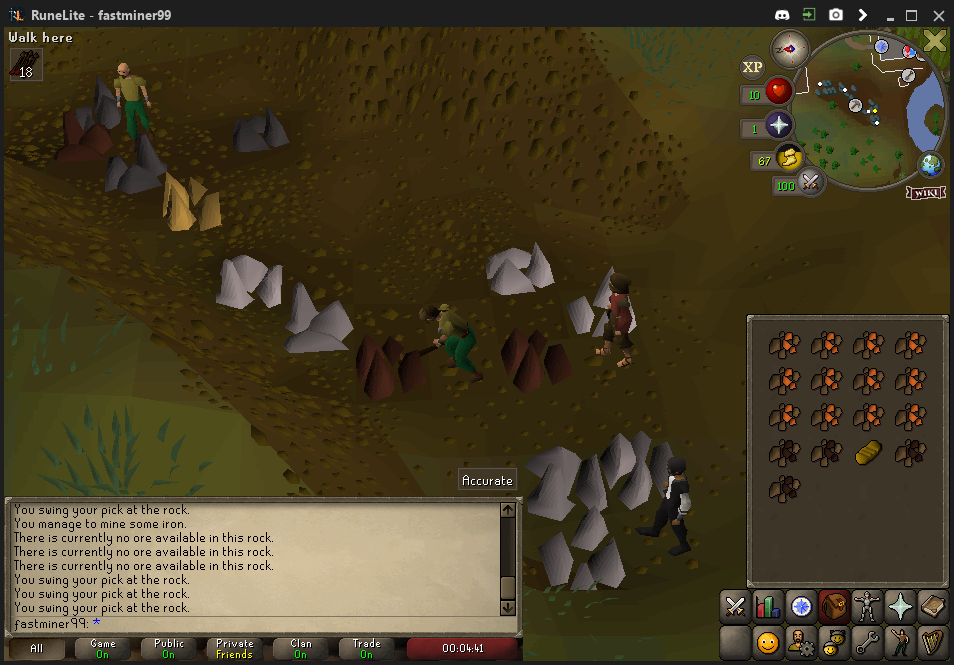depleted: (101, 136, 166, 201), (60, 74, 122, 130), (226, 112, 292, 156)
ore: (352, 326, 428, 399), (494, 328, 575, 389)
